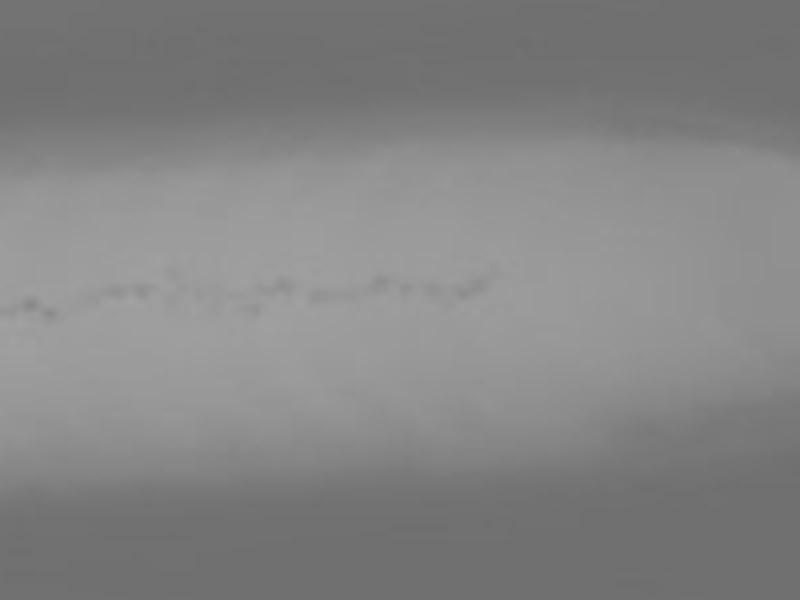defect: (276, 274, 298, 296), (370, 273, 391, 294), (104, 280, 122, 298), (306, 286, 324, 304), (425, 280, 442, 297), (23, 294, 39, 310), (137, 283, 153, 299), (471, 278, 487, 294), (43, 307, 58, 322), (456, 286, 471, 301), (247, 302, 261, 316), (256, 280, 270, 294), (399, 284, 413, 298), (488, 262, 501, 275)
